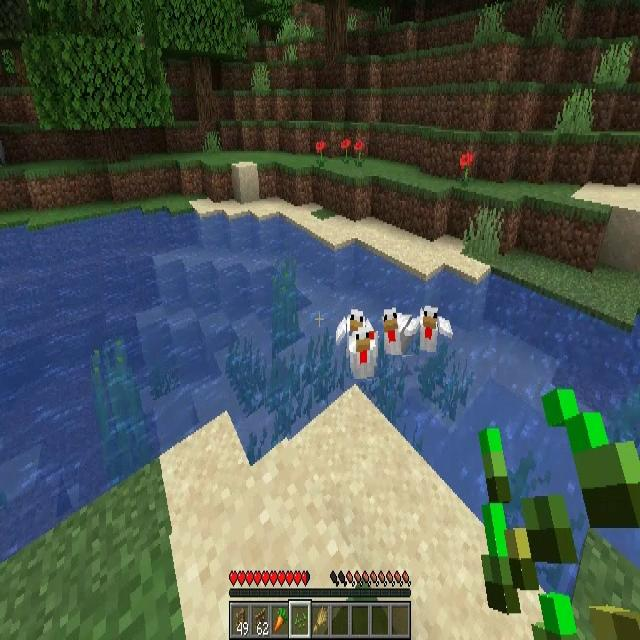duck: (384, 306, 420, 355), (421, 304, 452, 350), (349, 331, 378, 379), (337, 308, 377, 342)
